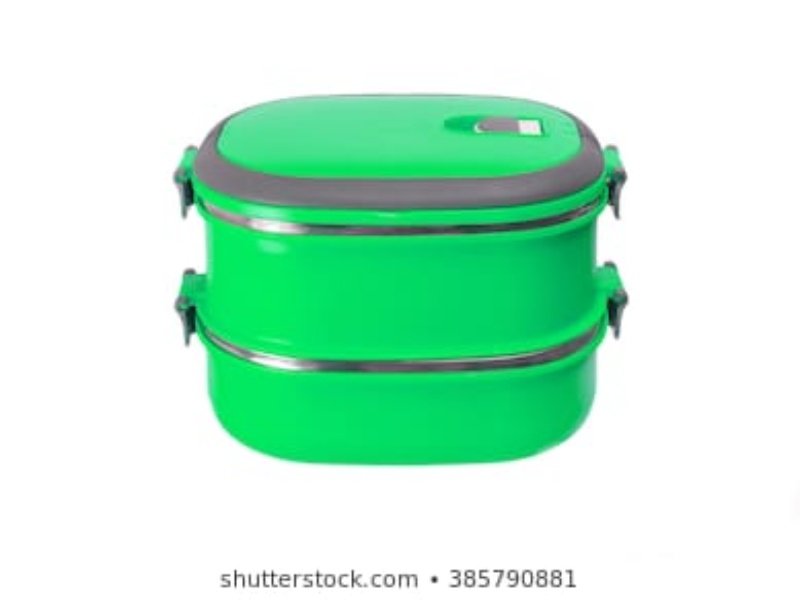plastic-container: (177, 93, 628, 467)
